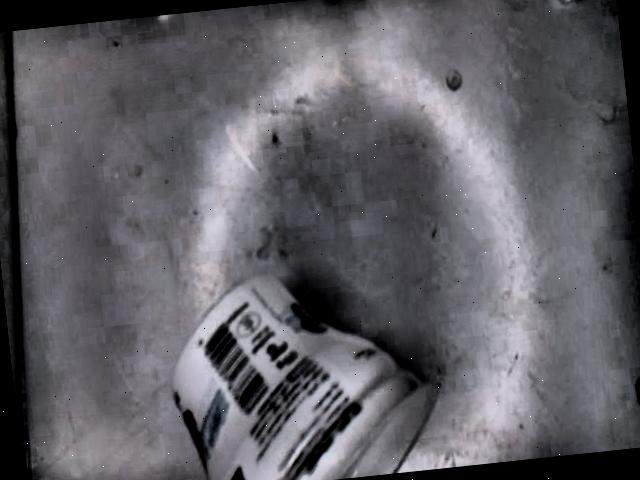Plastic: (165, 270, 441, 480)
